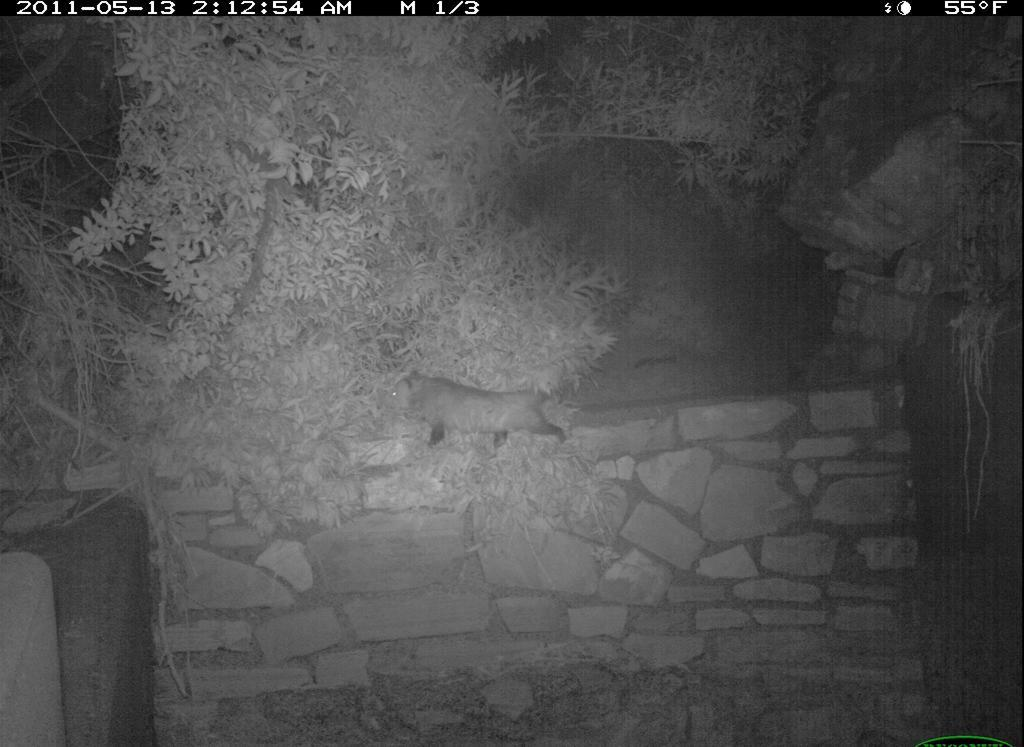opossum: (379, 365, 594, 454)
